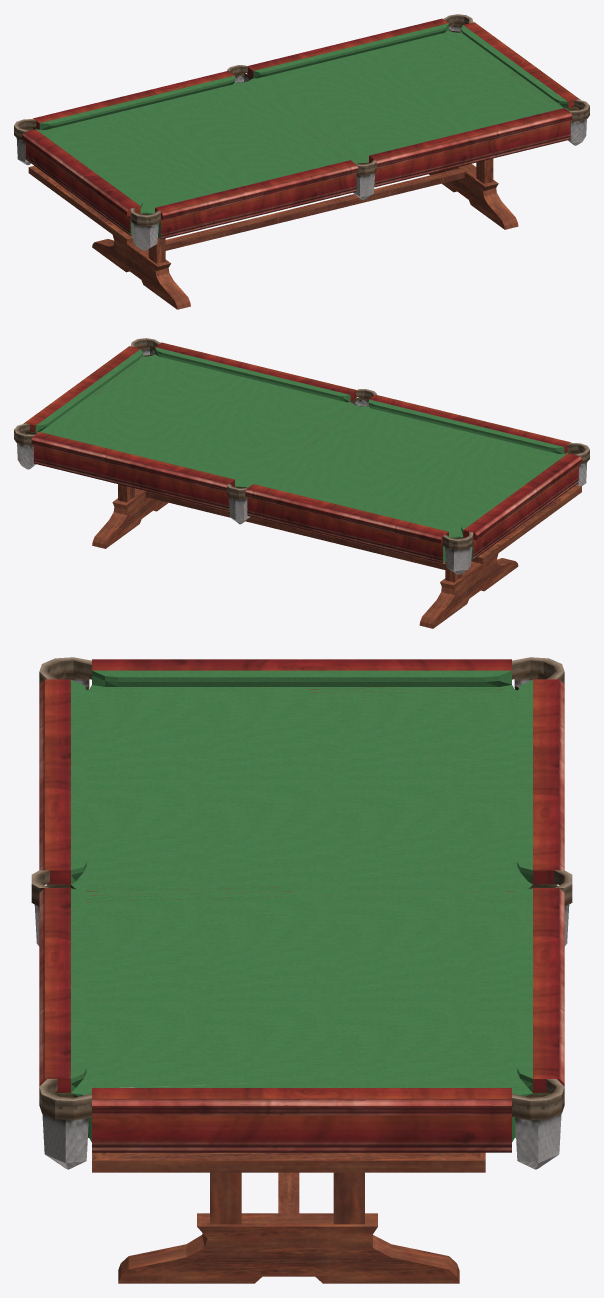
File: tableL.obj
3 renders of one model, top to bottom at view 1: azimuth 30°, elevation 25°; view 2: azimuth 150°, elevation 25°; view 3: azimuth 270°, elevation 25°, orthographic. The views are drawn at different scales.
Visible parts, largest first — view 1: PROP_Furniture_Pool_Table; view 2: PROP_Furniture_Pool_Table; view 3: PROP_Furniture_Pool_Table.
Boxes of the visible parts, bbox=[...] form: PROP_Furniture_Pool_Table: bbox=[14, 14, 589, 309]; PROP_Furniture_Pool_Table: bbox=[14, 338, 589, 628]; PROP_Furniture_Pool_Table: bbox=[31, 657, 572, 1283].
Bounding box in the file's own units: 20 × 5 × 10.3.
4 materials, 4 textured.
